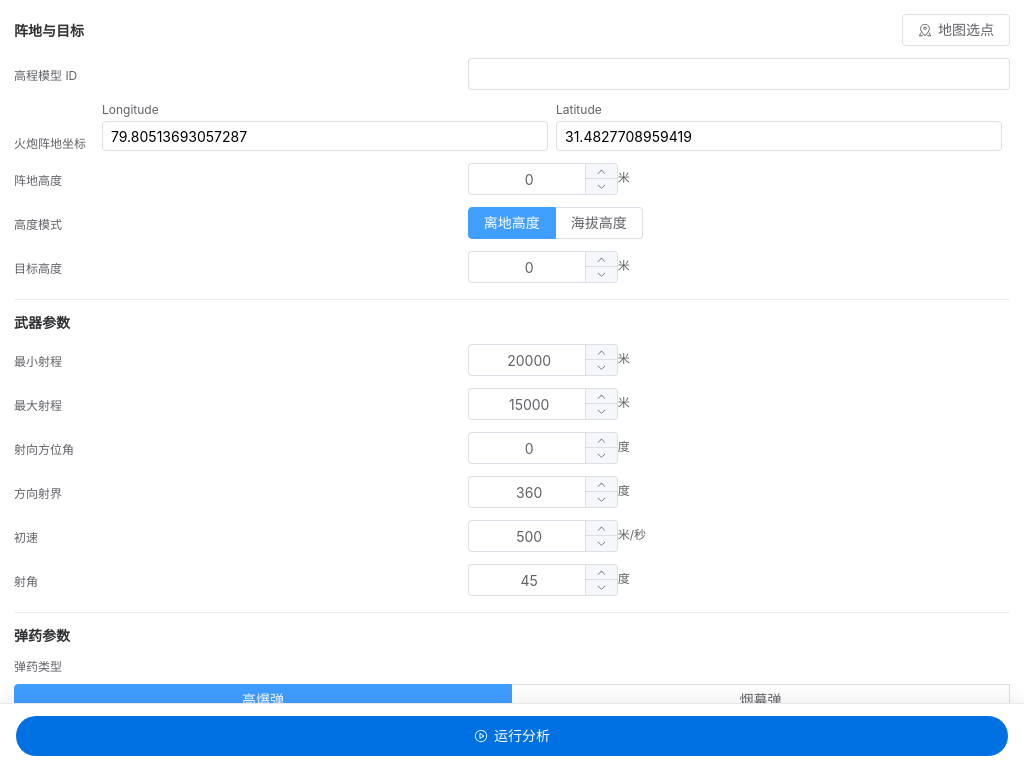
Test case: ModelParameterPanel › shows the artillery range-order issue and blocks submit
The image size is (1024, 768).
Step 1. Click the button "运行分析" → (512, 736), box [16, 716, 1008, 756]
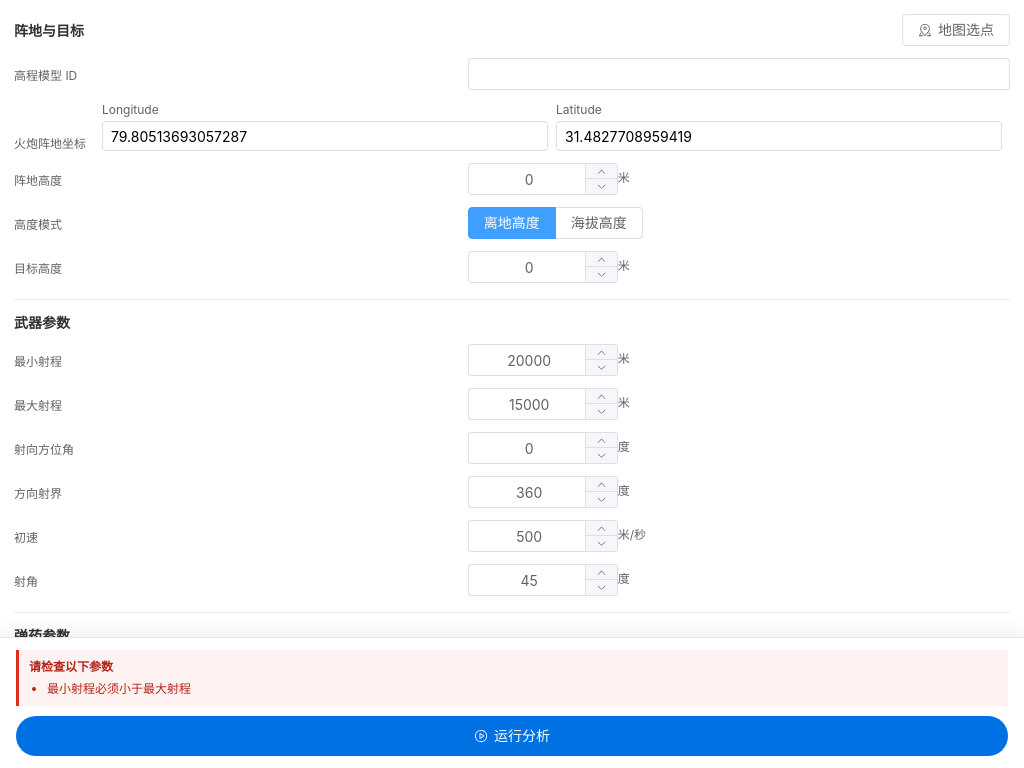
Expected: the text "最小射程必须小于最大射程" is shown, [47, 682, 191, 697]
